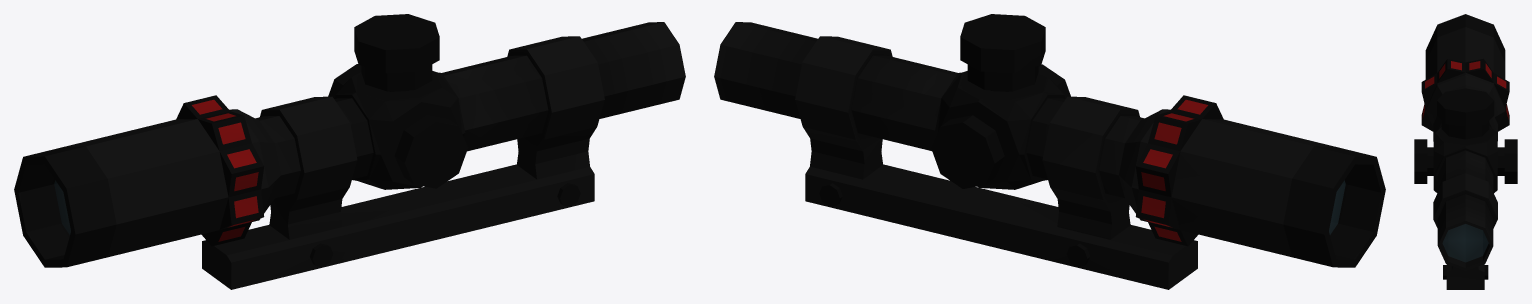
File: k-att-scope-east.glb
3 views of the same model, side by side, from view 1: azimuth 30°, elevation 25°; view 2: azimuth 150°, elevation 25°; view 3: azimuth 270°, elevation 25° (orthographic). The views are drawn at different scales.
Visible parts, largest first — view 1: kit (×4); view 2: kit (×4); view 3: kit (×4), lens.
Boxes of the visible parts, x1=… form: kit (×4): x1=14, y1=14, x2=685, y2=289; kit (×4): x1=714, y1=14, x2=1385, y2=289; kit (×4): x1=1414, y1=14, x2=1517, y2=289; lens: x1=1442, y1=224, x2=1488, y2=262.
Size of the model in its own units: 0.2917 by 0.0914 by 0.0648.
